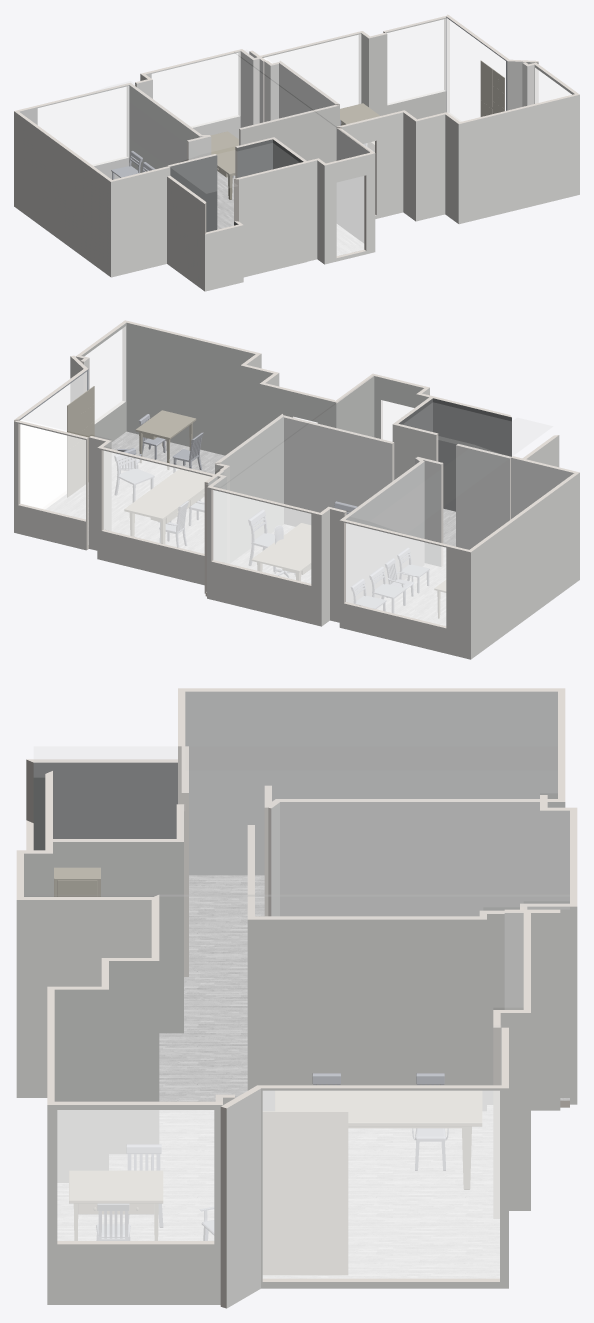
File: lotconsult.glb
3 renders of one model, top to bottom at view 1: azimuth 30°, elevation 25°; view 2: azimuth 150°, elevation 25°; view 3: azimuth 270°, elevation 25°, orthographic. The views are drawn at different scales.
Parts seen in each view (by area): view 1: ceiling_Dining Room_0 (×8), wall_27, window_4 (×2), wall_24 (×2), window_2 (×2), window_1 (×2), window_3 (×2), door_2 (×2), wall_33, wall_25, door_0 (×2), wall_32 (+33 smaller); view 2: ceiling_Dining Room_0 (×8), window_3 (×2), window_4 (×2), window_2 (×2), wall_24 (×2), wall_27, window_1 (×2), floor_Dining Room_0, wall_34, wall_32, wall_41 (×2), wall_20 (+36 smaller); view 3: ceiling_Dining Room_0 (×8), door_2 (×2), floor_Dining Room_0, wall_24 (×2), window_0 (×2), wall_4 (×2), wall_32 (×2), storage0, wall_39, wall_12, ceiling_Bathroom_0, wall_6 (+24 smaller).
Part boxes in pixels (left/top/right/bottom): ceiling_Dining Room_0 (×8): left=21, top=17, right=573, bottom=178; wall_27: left=458, top=94, right=579, bottom=224; window_4 (×2): left=38, top=86, right=128, bottom=165; wall_24 (×2): left=14, top=111, right=111, bottom=276; window_2 (×2): left=152, top=52, right=240, bottom=127; window_1 (×2): left=387, top=19, right=445, bottom=104; window_3 (×2): left=263, top=34, right=360, bottom=108; door_2 (×2): left=447, top=18, right=505, bottom=121; wall_33: left=239, top=163, right=307, bottom=277; wall_25: left=111, top=167, right=170, bottom=277; door_0 (×2): left=337, top=176, right=363, bottom=255; wall_32: left=129, top=85, right=199, bottom=172; ceiling_Dining Room_0 (×8): left=21, top=323, right=572, bottom=549; window_3 (×2): left=104, top=451, right=210, bottom=553; window_4 (×2): left=346, top=523, right=445, bottom=625; window_2 (×2): left=213, top=490, right=310, bottom=583; wall_24 (×2): left=469, top=472, right=579, bottom=659; wall_27: left=126, top=323, right=255, bottom=455; window_1 (×2): left=20, top=424, right=85, bottom=519; floor_Dining Room_0: left=45, top=431, right=445, bottom=625; wall_34: left=284, top=417, right=392, bottom=526; wall_32: left=346, top=462, right=424, bottom=603; wall_41 (×2): left=207, top=487, right=321, bottom=626; wall_20: left=339, top=520, right=470, bottom=659; ceiling_Dining Room_0 (×8): left=24, top=692, right=569, bottom=1100; door_2 (×2): left=263, top=1091, right=499, bottom=1278; floor_Dining Room_0: left=57, top=875, right=499, bottom=1278; wall_24 (×2): left=178, top=688, right=564, bottom=875; window_0 (×2): left=57, top=1110, right=213, bottom=1240; wall_4 (×2): left=247, top=916, right=486, bottom=1110; wall_32 (×2): left=276, top=799, right=565, bottom=916; storage0: left=263, top=1111, right=347, bottom=1274; wall_39: left=16, top=900, right=151, bottom=1097; wall_12: left=47, top=1105, right=222, bottom=1304; ceiling_Bathroom_0: left=34, top=747, right=184, bottom=838; wall_6: left=33, top=762, right=177, bottom=850.
Size of the model in its own units: 13.65 by 2.98 by 7.53.
115 materials, 5 textured.
